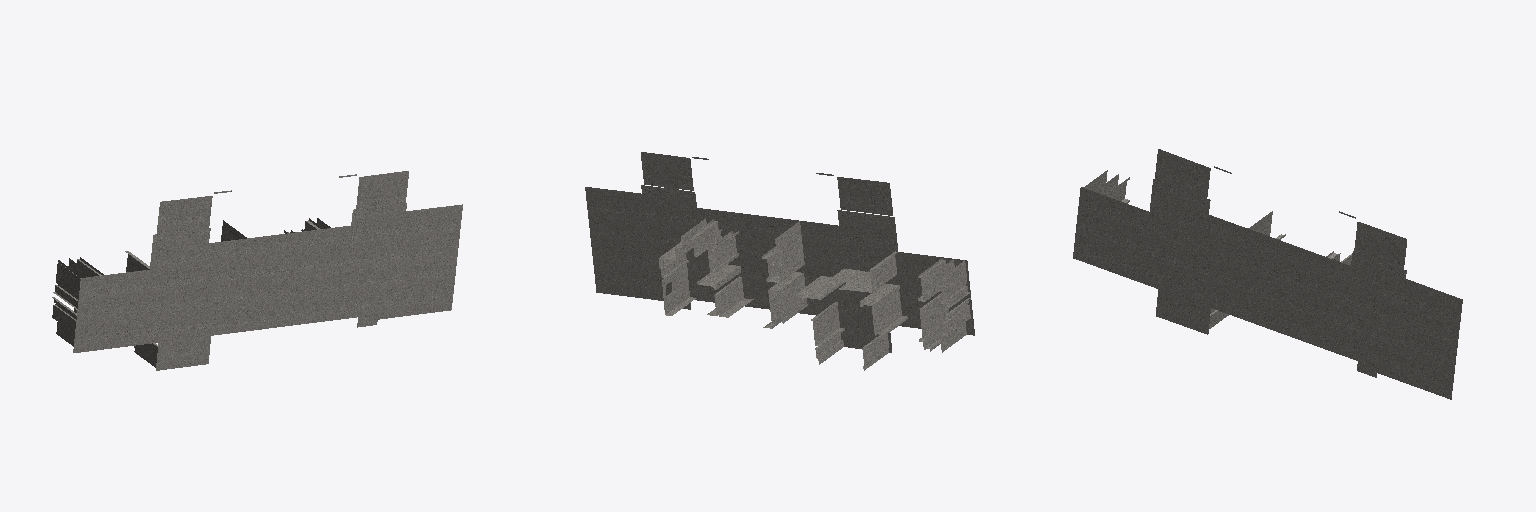
3 views of the same model, side by side, from view 1: azimuth 30°, elevation 25°; view 2: azimuth 150°, elevation 25°; view 3: azimuth 330°, elevation 25° (orthographic).
Visible parts, largest first — view 1: data27; view 2: data27; view 3: data27.
Boxes of the visible parts, <box> form: data27: <box>52,171,462,370</box>; data27: <box>585,152,974,370</box>; data27: <box>1073,149,1462,399</box>.
Bounding box in the file's own units: 53.06 × 23.47 × 6.1.
Materials: 1 (1 with a texture image).